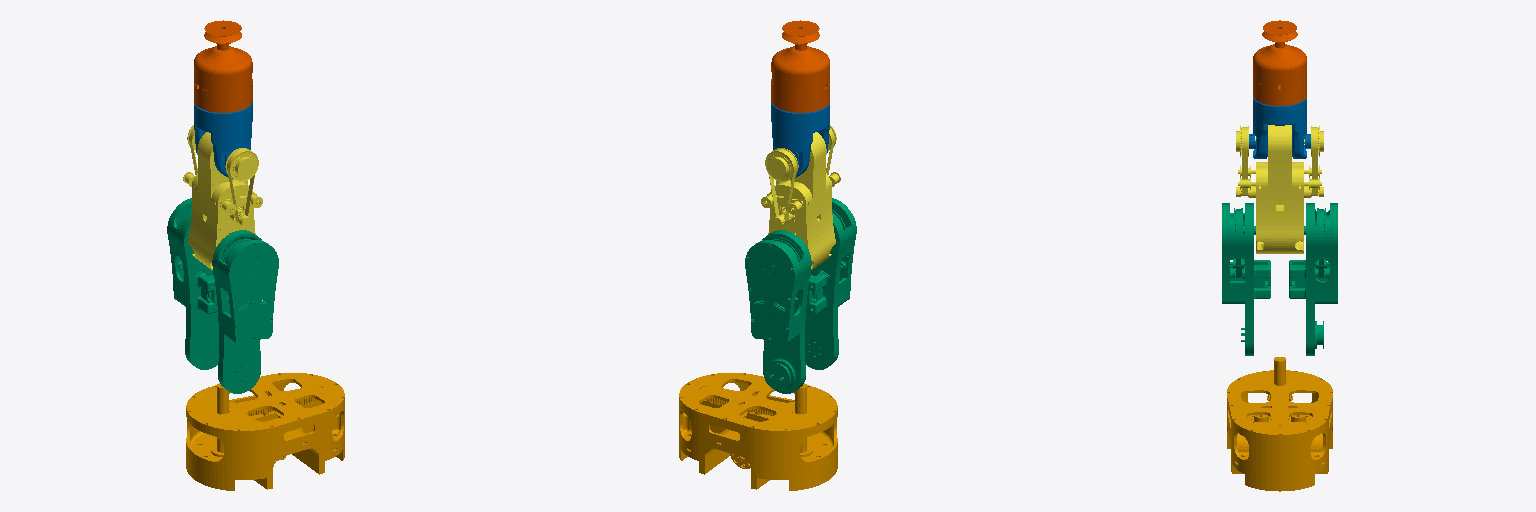
URDF robot description (robot_arm_5axis_suction):
<?xml version="1.0"?>
<!--
  robot_arm_5axis_suction.urdf   (v2)

  링크 길이 검증 완료 (DH modified/Craig 표와 오차 ~1e-16)
    joint3 origin z = 0.195   (joint2 -> joint3)
    joint4 origin z = 0.165   (joint3 -> joint4)
    TCP 오프셋       = 0.087 + 0.1245 = 0.2115  (joint5 회전축 위)

  home(모든 관절 0):
    TCP = (-0.0945, 0, 0.7665),  TCP z축 = [0, 0, 1]
    어깨(joint2) = (-0.0945, 0, 0.195),  최대 도달반경 0.5715 m

  <limit> lower/upper 는 아직 임시값(±3.14).
  관절 한계각이 정해지면 아래 3곳을 같은 값으로 맞출 것:
    1) 이 파일의 <limit>
    2) kinematics_ee_5axis.py 의 Q_MIN / Q_MAX
    3) 경로검사(path_collision_guard_ee_5axis.py) 쪽 검사값

  mesh filename 은 "robot_meshes/..." 상대경로.
  실행 노드가 mesh_dir 파라미터로 절대경로 치환한다.
-->
<robot name="robot_arm_5axis_suction">

  <!-- ===== LINKS ===== -->
  <link name="link1">
    <visual>
      <origin xyz="0 0 0" rpy="0 0 0"/>
      <geometry>
        <mesh filename="robot_meshes/link1.stl" scale="0.001 0.001 0.001"/>
      </geometry>
    </visual>
  </link>

  <link name="link2">
    <visual>
      <origin xyz="0 0 0" rpy="0 0 0"/>
      <geometry>
        <mesh filename="robot_meshes/link2.stl" scale="0.001 0.001 0.001"/>
      </geometry>
    </visual>
  </link>

  <link name="link3">
    <visual>
      <origin xyz="0 0 0" rpy="0 0 0"/>
      <geometry>
        <mesh filename="robot_meshes/link3.stl" scale="0.001 0.001 0.001"/>
      </geometry>
    </visual>
  </link>

  <link name="link4">
    <visual>
      <origin xyz="0 0 0" rpy="0 0 0"/>
      <geometry>
        <mesh filename="robot_meshes/link4.stl" scale="0.001 0.001 0.001"/>
      </geometry>
    </visual>
  </link>

  <link name="link5">
    <visual>
      <origin xyz="0 0 0" rpy="0 0 0"/>
      <geometry>
        <mesh filename="robot_meshes/link5.stl" scale="0.001 0.001 0.001"/>
      </geometry>
    </visual>
  </link>

  <link name="suction">
    <visual>
      <origin xyz="0 0 0" rpy="0 0 0"/>
      <geometry>
        <mesh filename="robot_meshes/suction.stl" scale="0.001 0.001 0.001"/>
      </geometry>
    </visual>
  </link>

  <!-- 형상 없는 TCP 프레임 -->
  <link name="suction_end"/>

  <!-- ===== JOINTS ===== -->

  <!-- base 회전 -->
  <joint name="joint1" type="revolute">
    <parent link="link1"/><child link="link2"/>
    <origin xyz="-0.0945 0 0.105" rpy="0 0 0"/>
    <axis xyz="0 0 1"/>
    <limit lower="-3.14" upper="3.14" effort="10" velocity="1"/>
  </joint>

  <!-- 사이클로이드 감속기 (dxl dir = -1) -->
  <joint name="joint2" type="revolute">
    <parent link="link2"/><child link="link3"/>
    <origin xyz="0 0 0.09" rpy="0 0 0"/>
    <axis xyz="0 1 0"/>
    <limit lower="-3.14" upper="3.14" effort="10" velocity="1"/>
  </joint>

  <!-- L2 = 0.195 -->
  <joint name="joint3" type="revolute">
    <parent link="link3"/><child link="link4"/>
    <origin xyz="0 0 0.195" rpy="0 0 0"/>
    <axis xyz="0 1 0"/>
    <limit lower="-3.14" upper="3.14" effort="10" velocity="1"/>
  </joint>

  <!-- L3 = 0.165 -->
  <joint name="joint4" type="revolute">
    <parent link="link4"/><child link="link5"/>
    <origin xyz="0 0 0.165" rpy="0 0 0"/>
    <axis xyz="0 1 0"/>
    <limit lower="-3.14" upper="3.14" effort="10" velocity="1"/>
  </joint>

  <!-- 그리퍼 회전. 이 축 위에 TCP가 놓이므로 q5는 TCP 위치를 바꾸지 않음 -->
  <joint name="joint5" type="revolute">
    <parent link="link5"/><child link="suction"/>
    <origin xyz="0 0 0.087" rpy="0 0 0"/>
    <axis xyz="0 0 1"/>
    <limit lower="-3.14" upper="3.14" effort="10" velocity="1"/>
  </joint>

  <!-- 고정 TCP.  0.087 + 0.1245 = 0.2115 -->
  <joint name="suction_fixed" type="fixed">
    <parent link="suction"/><child link="suction_end"/>
    <origin xyz="0 0 0.1245" rpy="0 0 0"/>
  </joint>

</robot>

--- Render facts (derived) ---
3 views of the same robot in one strip: view 1: azimuth 30°, elevation 25°; view 2: azimuth 150°, elevation 25°; view 3: azimuth 270°, elevation 25° (orthographic).
Model robot_arm_5axis_suction with 7 links and 6 joints (5 revolute, 1 fixed), rooted at link1, posed every joint at zero.
Links seen in each view (by area): view 1: link1, link3, link4, suction, link5; view 2: link1, link3, link4, suction, link5; view 3: link1, link3, link4, suction, link5.
Boxes of the visible links, x1,y1,x2,y2 form: link1: (186,373,344,490); link3: (167,198,278,393); link4: (183,125,262,269); suction: (194,20,252,112); link5: (194,101,252,178); link1: (679,373,837,490); link3: (745,198,856,393); link4: (761,125,840,269); suction: (771,20,829,112); link5: (771,101,829,178); link1: (1227,357,1332,491); link3: (1222,203,1337,355); link4: (1236,125,1323,253); suction: (1253,20,1306,105); link5: (1249,97,1310,158).
Bounding box of the posed robot: 0.2595 × 0.194 × 0.7685 m (x, y, z).
Meshes: 6 distinct files referenced, 5 mesh visuals loaded (5 binary STL); not drawn: 1 (reference not matched to a file when rendering).
